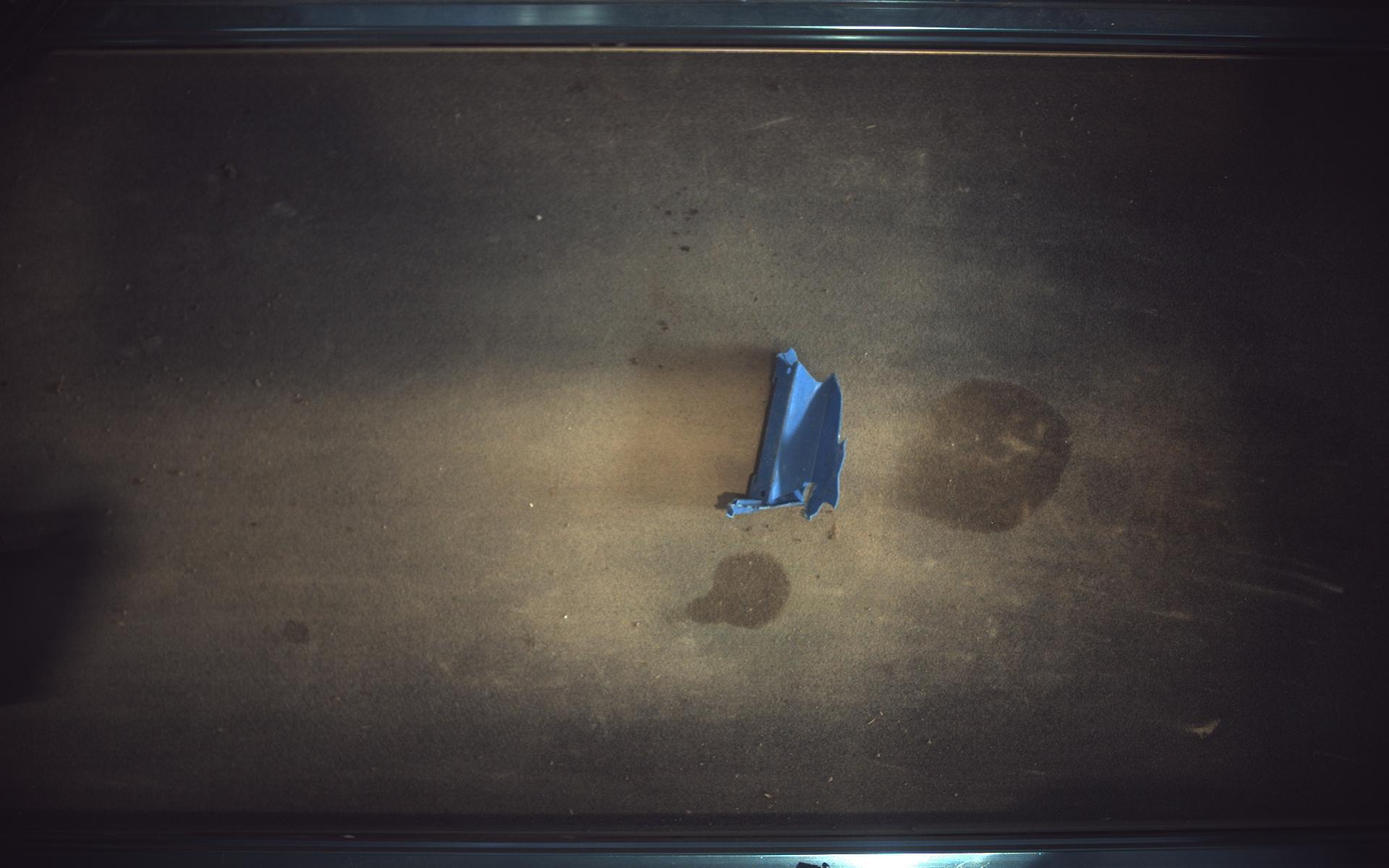plastic: (720, 349, 847, 519)
